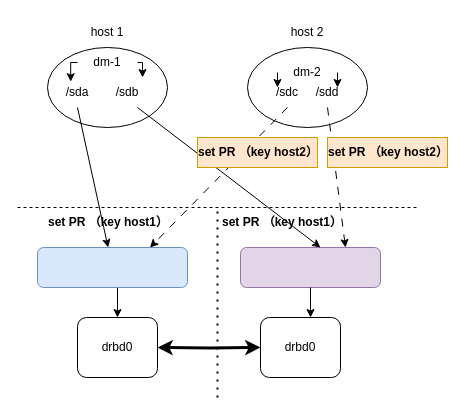
This 465x416 diagram has some shape labels left out. The shapes that lost their labels are listed below. From the top down, each one's centre as x and y in pixels, then its label:
At pixel 112 267: "target1".
At pixel 310 267: "target2".
